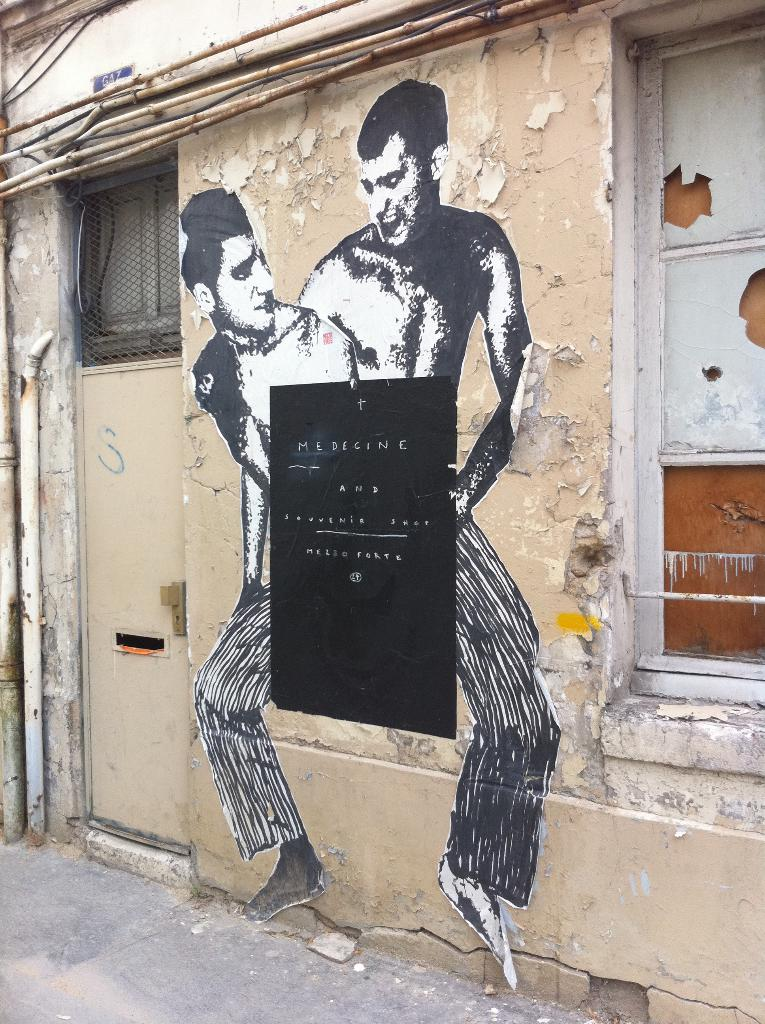Person: (179, 182, 561, 990), (295, 78, 561, 990)
